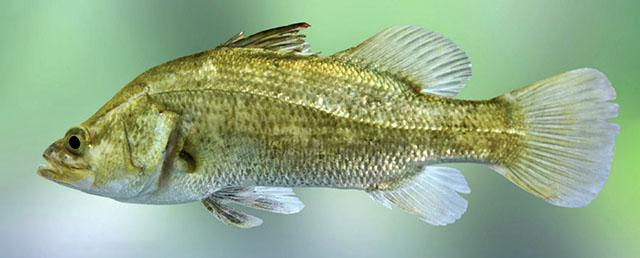Mulut: (20, 133, 80, 197)
Sirip Anal: (352, 160, 486, 241)
Sirip Dada: (158, 116, 278, 182)
Sirip Ekor: (485, 62, 633, 215)
Sirip Perut: (193, 175, 315, 239)
Sirip Punggung: (210, 9, 492, 117)
